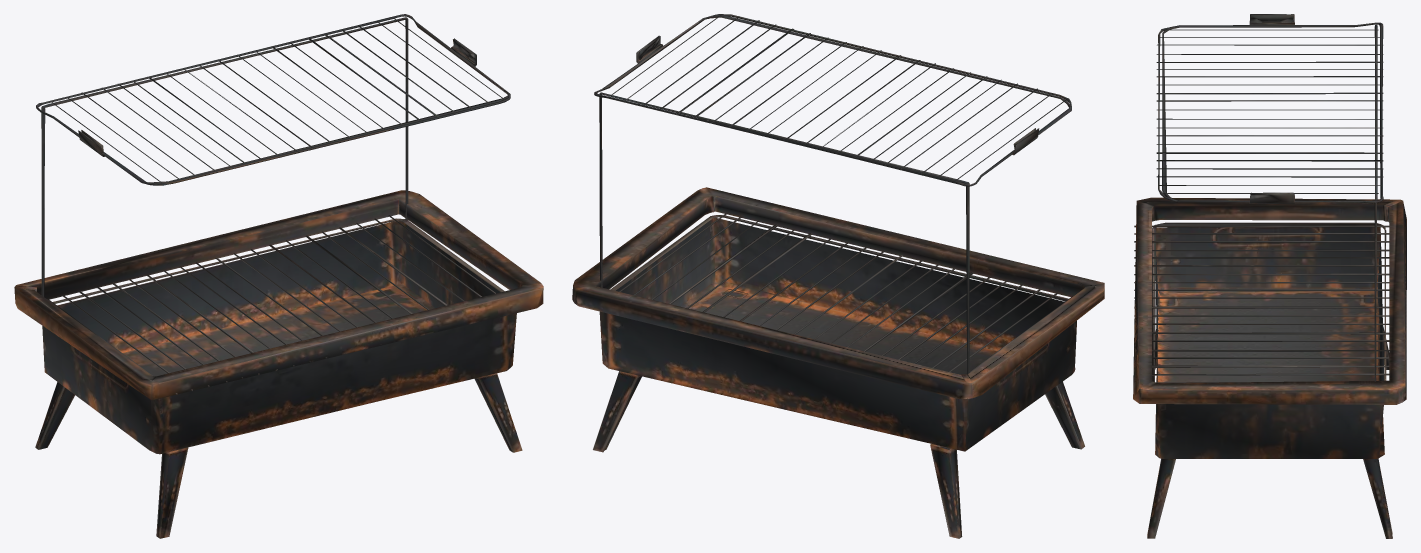
The model's file is mangal.glb.
The picture shows the model from 3 angles, left to right: view 1: azimuth 30°, elevation 25°; view 2: azimuth 150°, elevation 25°; view 3: azimuth 270°, elevation 25°; orthographic projection. The views are drawn at different scales.
Size of the model in its own units: 0.9497 by 0.8022 by 0.5708.
Materials: 1 (1 with a texture image).
